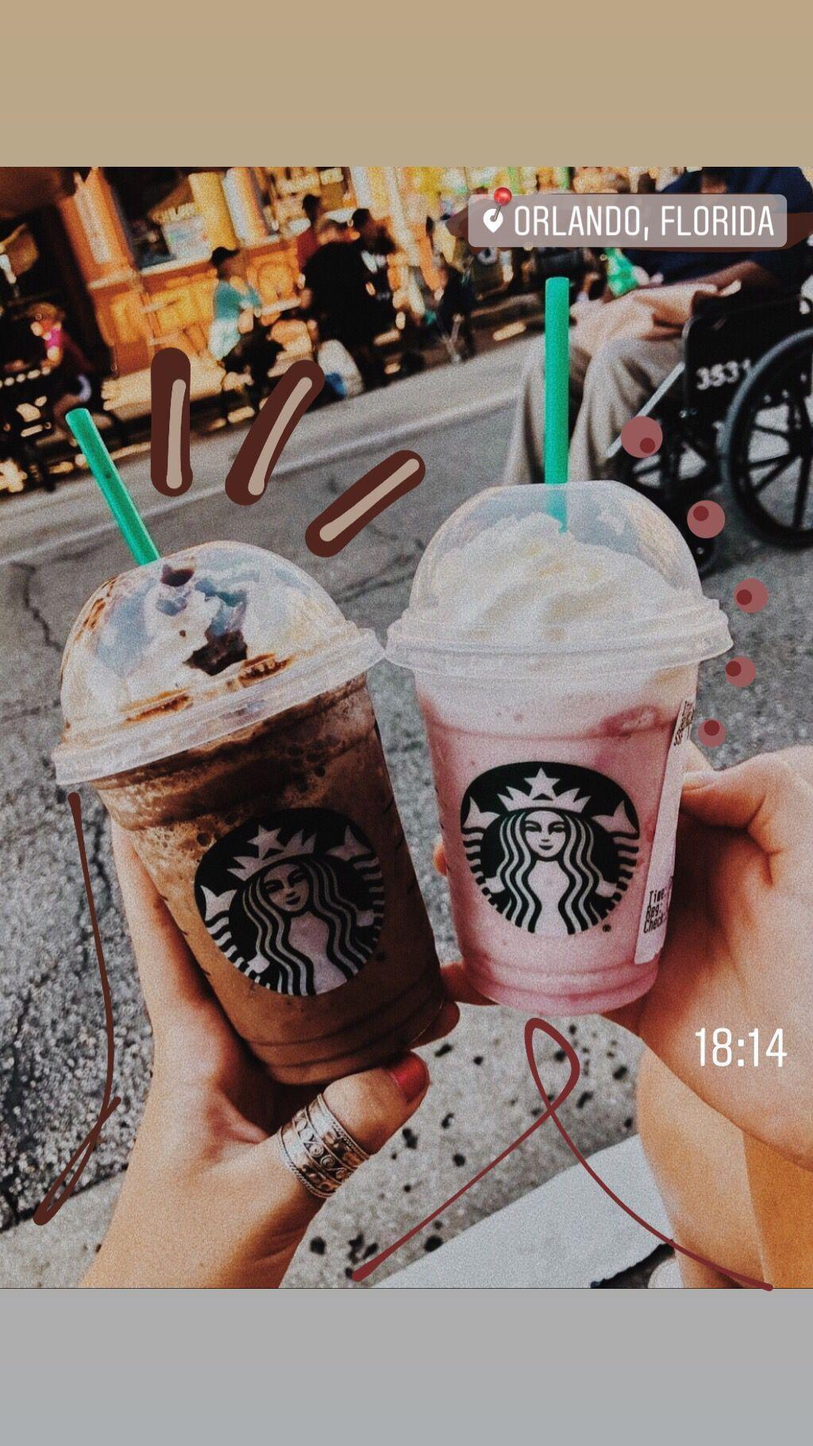cup-disposable: (48, 541, 451, 1084), (383, 476, 734, 1016)
